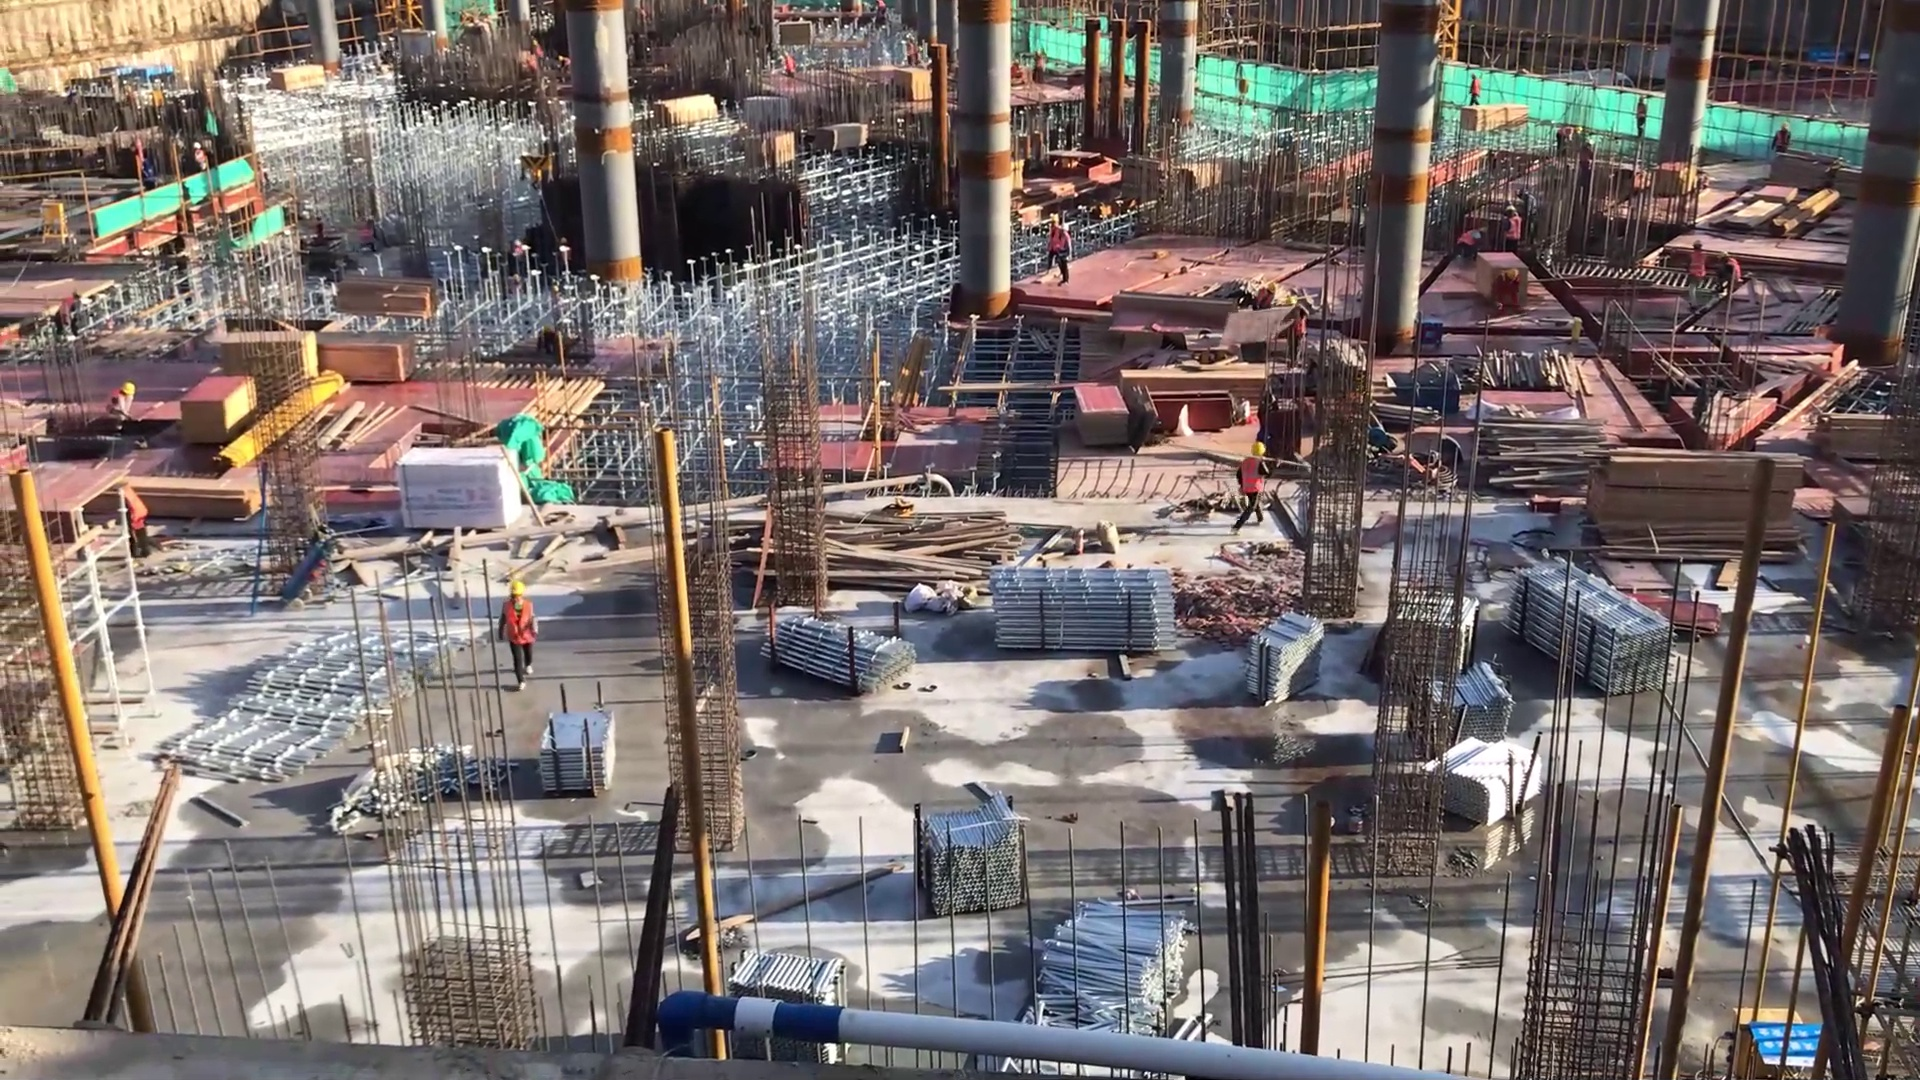board: (219, 328, 323, 399), (178, 368, 259, 452), (1617, 591, 1724, 650), (1075, 384, 1139, 457), (886, 66, 936, 103)
ebox: (33, 196, 72, 248)
helmet: (509, 579, 530, 609), (1249, 438, 1269, 463), (1504, 264, 1521, 286), (120, 379, 137, 398), (70, 288, 85, 303), (1264, 278, 1278, 295), (1060, 220, 1070, 238), (1506, 204, 1517, 216), (191, 140, 202, 150)
hook: (1387, 371, 1469, 430)
person: (496, 579, 541, 690), (114, 477, 157, 582), (1234, 436, 1279, 533), (45, 288, 87, 356), (101, 377, 140, 449), (1283, 303, 1316, 376), (1685, 239, 1709, 313), (1713, 247, 1744, 300), (1249, 272, 1279, 323), (1453, 221, 1490, 262), (1493, 266, 1525, 314), (1554, 119, 1581, 158), (1058, 219, 1073, 288), (1771, 121, 1795, 164), (1635, 94, 1652, 148), (1504, 202, 1521, 260), (190, 134, 210, 178), (141, 150, 161, 192), (1048, 209, 1060, 270), (1469, 69, 1484, 114), (782, 50, 800, 82), (1033, 44, 1044, 89)
scaffold: (1034, 895, 1205, 1052), (1515, 556, 1670, 701), (997, 557, 1172, 663), (897, 792, 1030, 916), (751, 612, 918, 705), (1243, 613, 1342, 715), (719, 930, 859, 999), (1416, 663, 1515, 754)
vest: (501, 601, 541, 651), (1236, 459, 1272, 496), (120, 486, 149, 533), (1506, 215, 1523, 246), (1688, 252, 1706, 281), (1058, 231, 1072, 265), (1458, 226, 1478, 251), (140, 164, 156, 189)
wood: (1581, 445, 1812, 562), (823, 507, 1021, 597), (1479, 401, 1612, 507), (1120, 357, 1290, 413), (123, 474, 266, 522), (317, 330, 418, 386), (1815, 410, 1911, 464), (327, 282, 453, 322), (643, 89, 729, 138), (1457, 101, 1528, 143), (266, 61, 330, 103), (806, 121, 876, 157)
